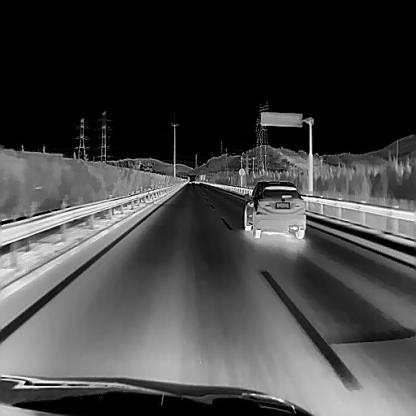car: (243, 180, 306, 238)
truck: (194, 175, 199, 183)
